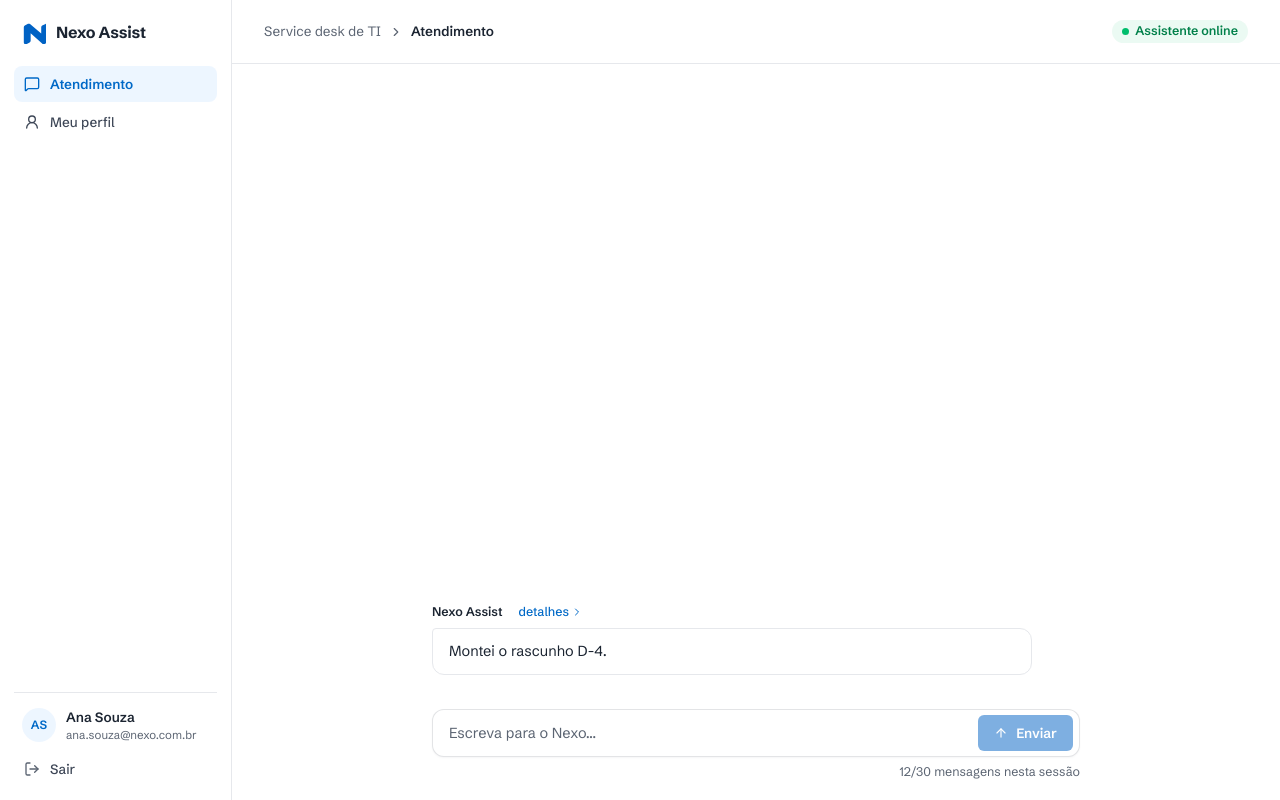
Test: tela do chat (tela 2) › RF05: detalhes abre o painel da decisão; fechar devolve o foco ao botão
This screenshot has width=1280, height=800.
Click the button with aria-label "detalhes da decisão": point(551, 612) [514,600,587,624]
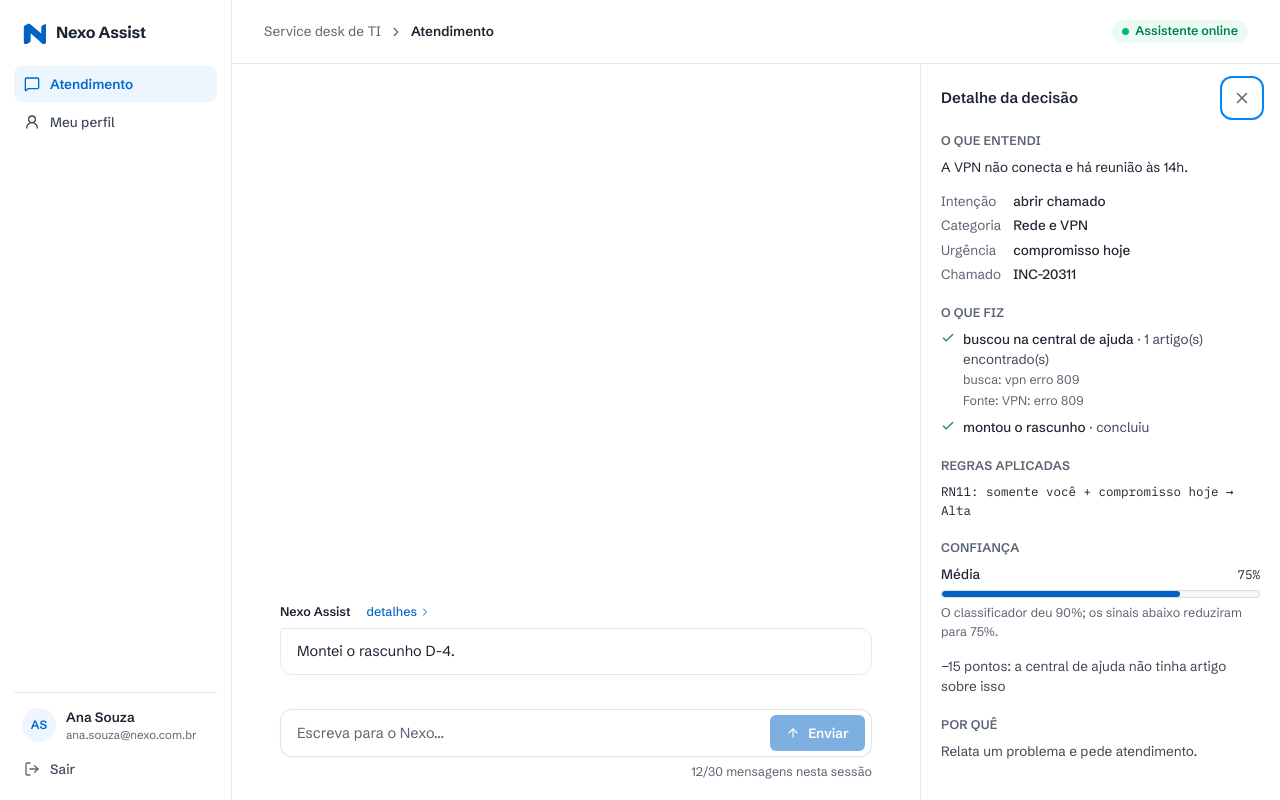
Expected: the element "Detalhe da decisão" shows "A VPN não conecta e há reunião às 14h.", [941,159,1188,175]
Expected: the button with aria-label "detalhes da decisão" is expanded, [362,600,435,624]
Click the button named "Fechar Detalhe da decisão": point(1242, 98) [1224,80,1260,116]
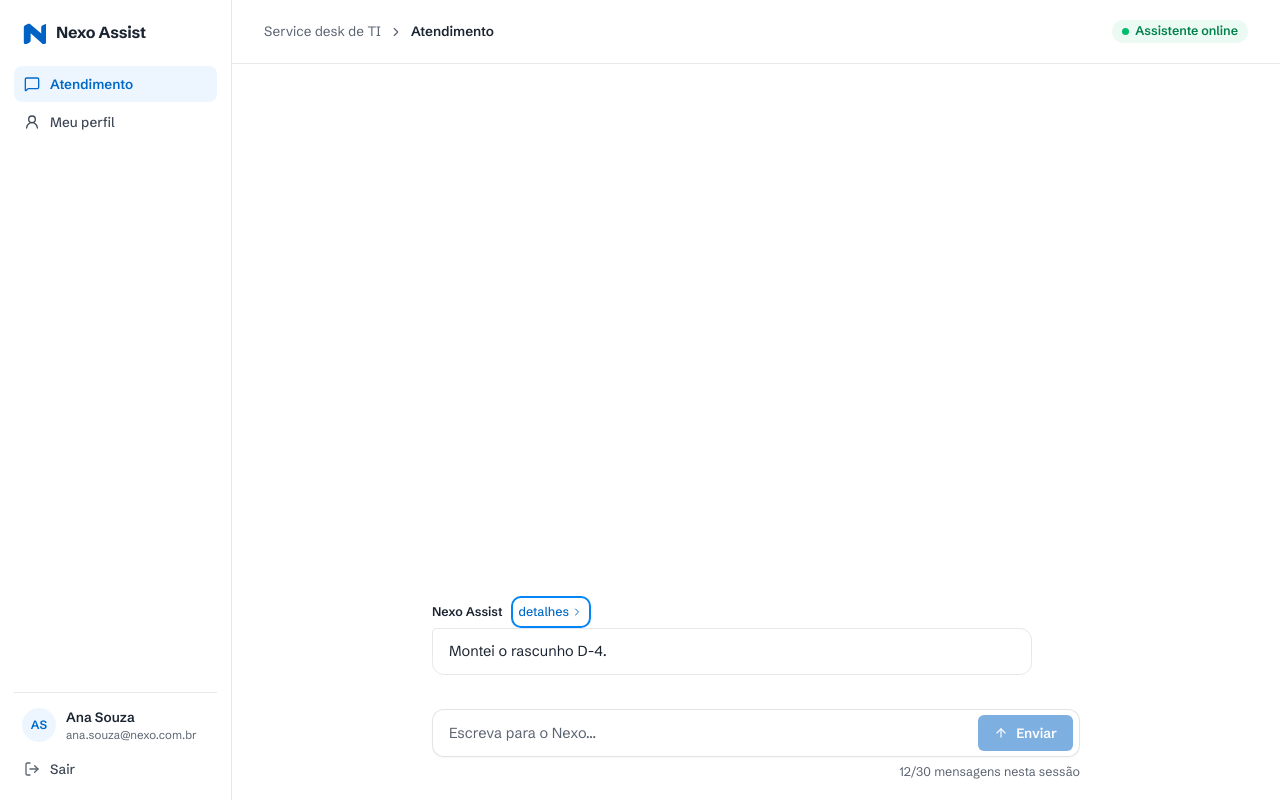
Expected: the heading "Detalhe da decisão" is gone
